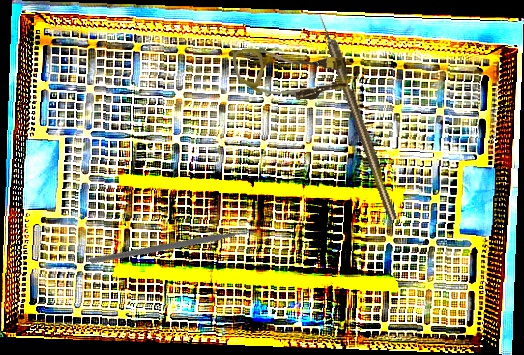Cannula: (232, 44, 348, 103)
Chopper: (88, 163, 266, 338)
Hook Surgical: (316, 11, 399, 222)
